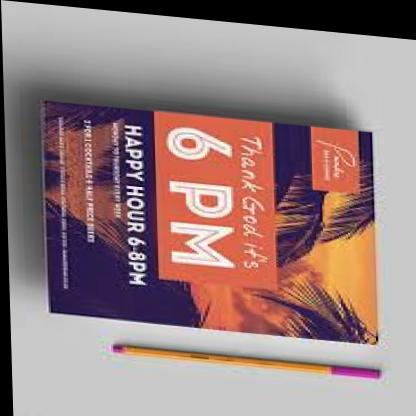Paper: (20, 69, 396, 349)
